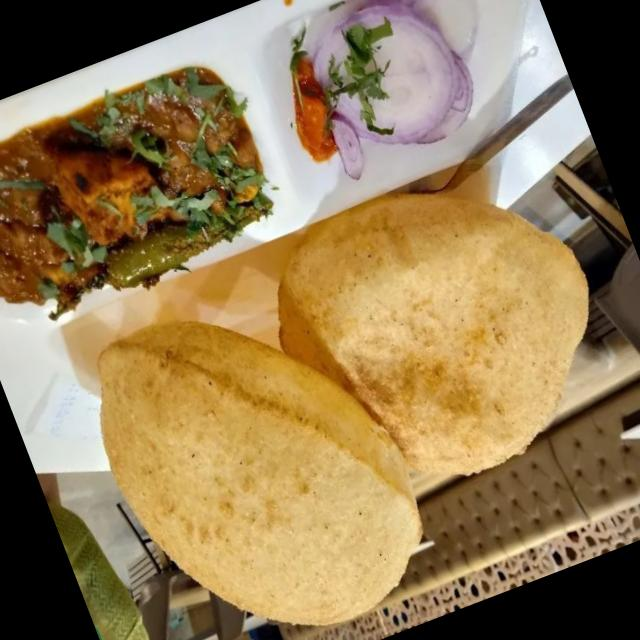Bhatura: (51, 135, 640, 640)
